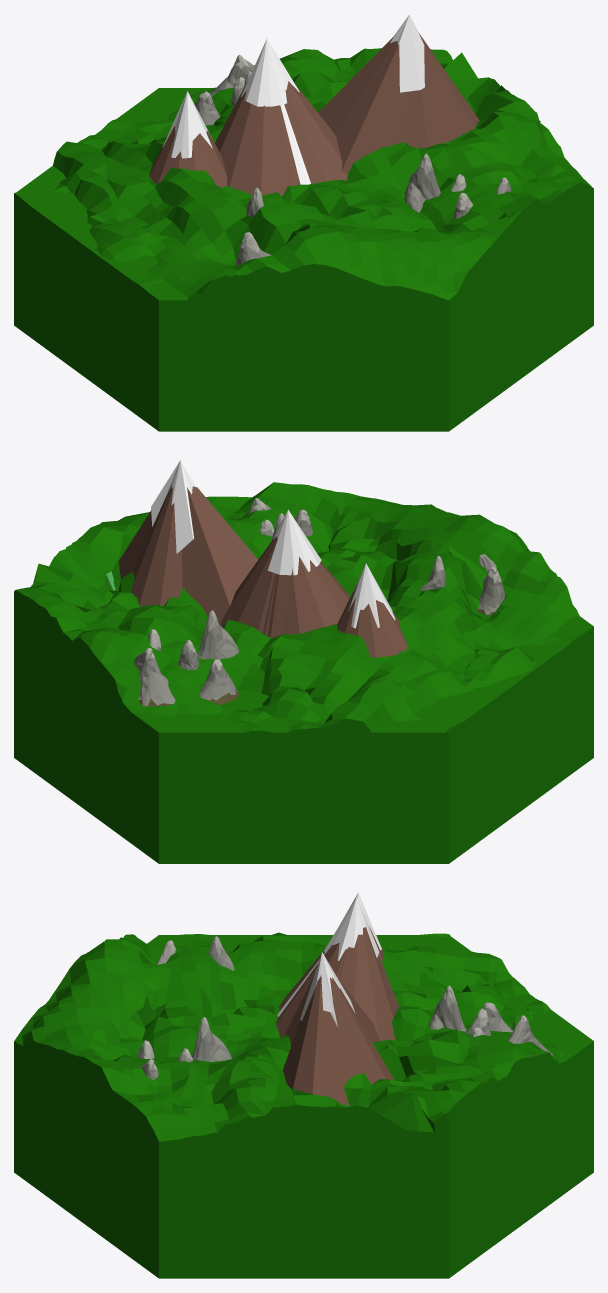
The model's file is ore.glb.
The picture shows the model from 3 angles, top to bottom: view 1: azimuth 30°, elevation 25°; view 2: azimuth 150°, elevation 25°; view 3: azimuth 270°, elevation 25°; orthographic projection.
Visible parts, largest first — view 1: Cylinder, Cylinder.001; view 2: Cylinder, Cylinder.001; view 3: Cylinder, Cylinder.001.
Boxes of the visible parts, x1,y1,x2,y2 form: Cylinder: (14, 14, 593, 431); Cylinder.001: (14, 48, 593, 338); Cylinder: (14, 460, 593, 863); Cylinder.001: (14, 482, 593, 770); Cylinder: (14, 892, 593, 1278); Cylinder.001: (14, 932, 566, 1184).
Size of the model in its own units: 1.73 by 1.05 by 2.
